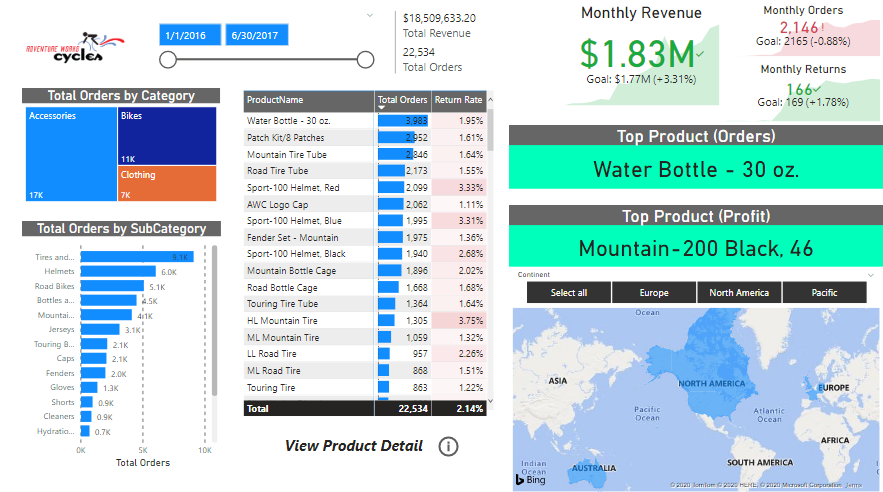

The dashboard page shown, as its layout file describes it:
{"tool":"powerbi","page":{"name":"Exec Summary","canvas":[1280,720],"ordinal":0},"visuals":[{"type":"image","box":[37.5,15.9,152.9,116.9],"z":0},{"type":"barChart","title":"Total Orders by SubCategory","fields":{"Y":["AW_Sales.Total Orders"],"Category":["AW_Product_Subcategory_Lookup.SubcategoryName"]},"box":[36.1,324.6,287.1,362.2],"z":1000},{"type":"treemap","title":"Total Orders by Category","fields":{"Group":["AW_Product_Category_Lookup.CategoryName","AW_Product_Subcategory_Lookup.SubcategoryName"],"Values":["AW_Sales.Total Orders"]},"box":[36.2,132.8,286.4,169.1],"z":2000},{"type":"pivotTable","fields":{"Values":["AW_Sales.Total Orders","AW_Returns.Return Rate"],"Rows":["AW_Product_Category_Lookup.CategoryName","AW_Product_Subcategory_Lookup.SubcategoryName","AW_Product_Lookup.ProductName"]},"box":[350.3,131.6,370.8,480.2],"z":3000},{"type":"slicer","fields":{"Values":["AW_Calender_Lookup.Date"]},"box":[220.8,15.9,334.7,106.8],"z":4000},{"type":"multiRowCard","fields":{"Values":["AW_Sales.Total Revenue_Measure","AW_Sales.Total Orders"]},"box":[568.5,15.9,230.9,115.4],"z":5000},{"type":"kpi","title":"Monthly Revenue","fields":{"Indicator":["AW_Sales.Total Revenue_Measure"],"TrendLine":["AW_Calender_Lookup.Start of Month"],"Goal":["AW_Sales.Prev Month Revenue"]},"box":[813,10.1,235.2,152.9],"z":6000},{"type":"kpi","title":"Monthly Orders","fields":{"TrendLine":["AW_Calender_Lookup.Start of Month"],"Goal":["AW_Sales.Prev Month Orders"],"Indicator":["AW_Sales.Total Orders"]},"box":[1048.2,10.1,231.8,82.3],"z":7000},{"type":"kpi","title":"Monthly Returns","fields":{"TrendLine":["AW_Calender_Lookup.Start of Month"],"Indicator":["AW_Returns.Total Returns"],"Goal":["AW_Returns.Prev Month Returns"]},"box":[1048.2,95.7,231.8,90.7],"z":8000},{"type":"card","title":"Top Product (Orders)","fields":{"Values":["Min(AW_Product_Lookup.ProductName)"]},"box":[738.8,186.1,539.6,92.3],"z":9000},{"type":"card","title":"Top Product (Profit)","fields":{"Values":["Min(AW_Product_Lookup.ProductName)"]},"box":[738.8,301.6,539.6,89.5],"z":10000},{"type":"filledMap","fields":{"Category":["AW_Territories_Lookup.Country"]},"box":[738.8,421.3,539.6,298.7],"z":11000},{"type":"slicer","fields":{"Values":["AW_Territories_Lookup.Continent"]},"box":[738.8,391,539.6,59.2],"z":12000},{"type":"actionButton","box":[632.3,630.6,100.8,39.3],"z":13000},{"type":"textbox","box":[410.1,628.9,222.2,41],"z":14000}]}

Visuals, with their boxes in screenshot pixels (x1, y1, x2, y2), scaled from the page's 1280x720 canvas onto the 883x492 screenshot:
image: bbox(26, 11, 131, 91)
"Total Orders by SubCategory" barChart: bbox(25, 222, 223, 469)
"Total Orders by Category" treemap: bbox(25, 91, 223, 206)
pivotTable - AW_Sales.Total Orders x AW_Returns.Return Rate: bbox(242, 90, 497, 418)
slicer - AW_Calender_Lookup.Date: bbox(152, 11, 383, 84)
multiRowCard - AW_Sales.Total Revenue_Measure x AW_Sales.Total Orders: bbox(392, 11, 551, 90)
"Monthly Revenue" kpi: bbox(561, 7, 723, 111)
"Monthly Orders" kpi: bbox(723, 7, 882, 63)
"Monthly Returns" kpi: bbox(723, 65, 882, 127)
"Top Product (Orders)" card: bbox(510, 127, 882, 190)
"Top Product (Profit)" card: bbox(510, 206, 882, 267)
filledMap - AW_Territories_Lookup.Country: bbox(510, 288, 882, 491)
slicer - AW_Territories_Lookup.Continent: bbox(510, 267, 882, 308)
actionButton: bbox(436, 431, 506, 458)
textbox: bbox(283, 430, 436, 458)
